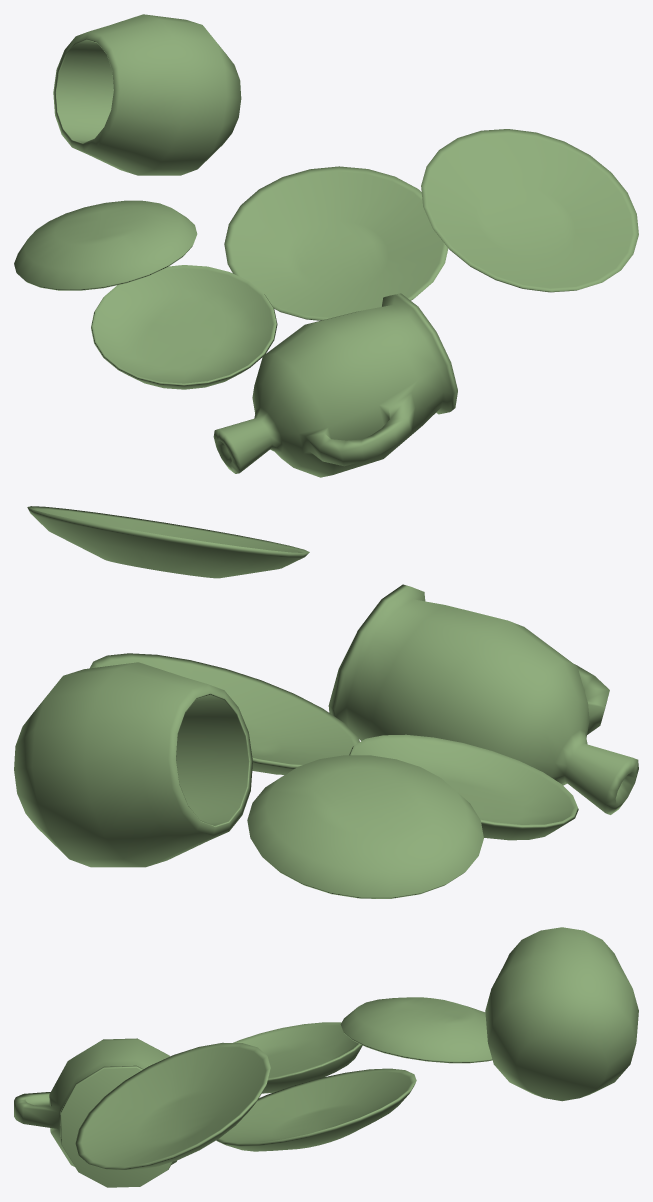
The model's file is Cupboard_13B_Break_Lod0.fbx.
3 renders of one model, top to bottom at view 1: azimuth 30°, elevation 25°; view 2: azimuth 150°, elevation 25°; view 3: azimuth 270°, elevation 25°, orthographic. The views are drawn at different scales.
Visible parts, largest first — view 1: Cupboard_13B_Break_Lod0; view 2: Cupboard_13B_Break_Lod0; view 3: Cupboard_13B_Break_Lod0.
Boxes of the visible parts, x1,y1,x2,y2 form: Cupboard_13B_Break_Lod0: [14, 14, 638, 477]; Cupboard_13B_Break_Lod0: [14, 506, 638, 898]; Cupboard_13B_Break_Lod0: [14, 927, 638, 1187].
Size of the model in its own units: 84.23 by 45.3 by 103.
